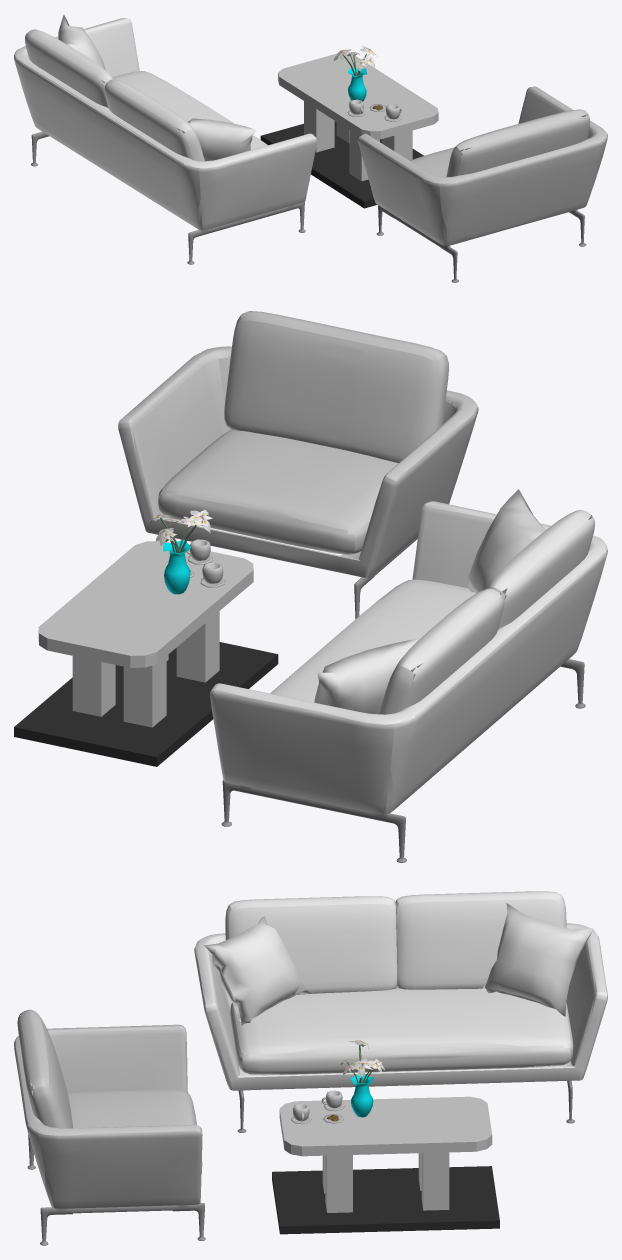
File: Mesita_sillones.fbx
3 views of the same model, one above another, from view 1: azimuth 30°, elevation 25°; view 2: azimuth 150°, elevation 25°; view 3: azimuth 270°, elevation 25° (orthographic). The views are drawn at different scales.
Parts seen in each view (by area): view 1: Back.001, Back.002, Cube.035, Caule2.001, Jarro2.010; view 2: Back.001, Back.002, Cube.035, Jarro2.010, Caule2.001; view 3: Back.001, Back.002, Cube.035, Jarro2.010, Caule2.001.
Part boxes in pixels (x1,y1,x2,y2): Back.001: (14, 15, 317, 264); Back.002: (358, 86, 607, 282); Cube.035: (260, 53, 438, 208); Caule2.001: (333, 46, 376, 75); Jarro2.010: (347, 67, 367, 101); Back.001: (209, 489, 607, 862); Back.002: (118, 311, 478, 618); Cube.035: (14, 541, 278, 766); Jarro2.010: (163, 539, 191, 594); Caule2.001: (148, 509, 212, 552); Back.001: (194, 891, 607, 1132); Back.002: (14, 1009, 205, 1245); Cube.035: (272, 1096, 499, 1234); Jarro2.010: (350, 1074, 373, 1117); Caule2.001: (340, 1040, 385, 1083).
Bounding box in the file's own units: 268 × 99.03 × 317.
